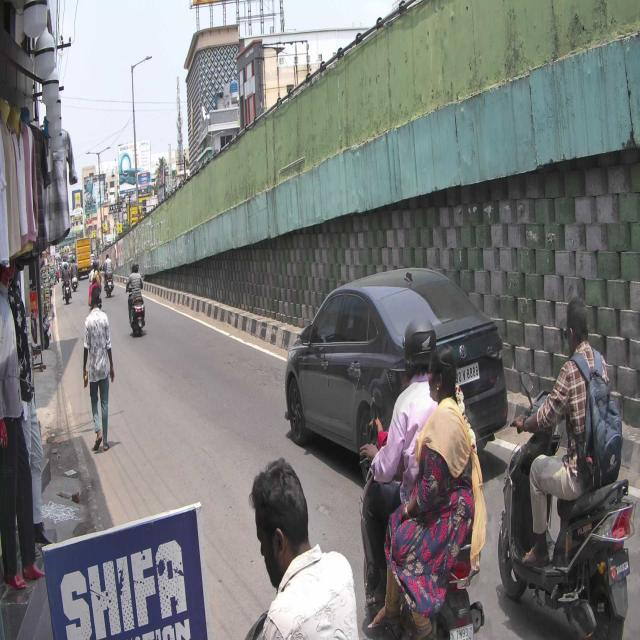double_rider: (362, 316, 486, 640)
single_rider: (499, 295, 639, 640)
